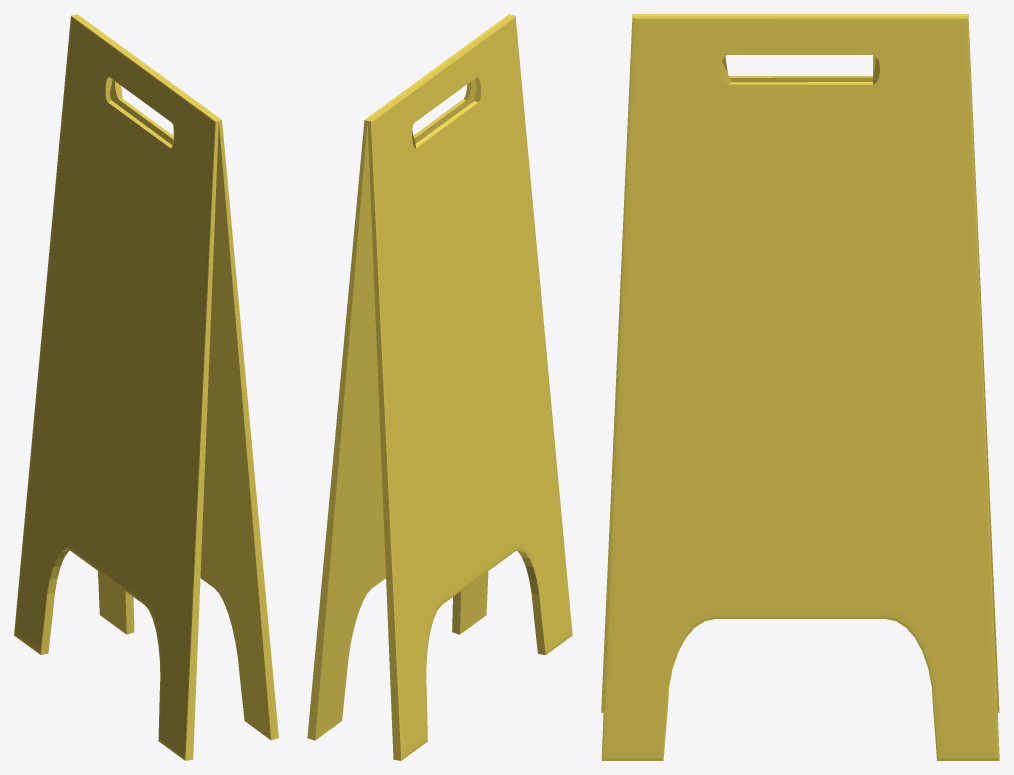
File: sliska_podloga2.fbx
3 views of the same model, side by side, from view 1: azimuth 30°, elevation 25°; view 2: azimuth 150°, elevation 25°; view 3: azimuth 270°, elevation 25° (orthographic). The views are drawn at different scales.
Visible parts, largest first — view 1: Plane, Plane.001; view 2: Plane, Plane.001; view 3: Plane.
Part boxes in pixels (left/top/right/bottom): Plane: left=14, top=14, right=278, bottom=760; Plane.001: left=46, top=162, right=202, bottom=520; Plane: left=307, top=14, right=572, bottom=760; Plane.001: left=386, top=160, right=542, bottom=518; Plane: left=601, top=14, right=999, bottom=760.
Bounding box in the file's own units: 31.67 × 200 × 100.
